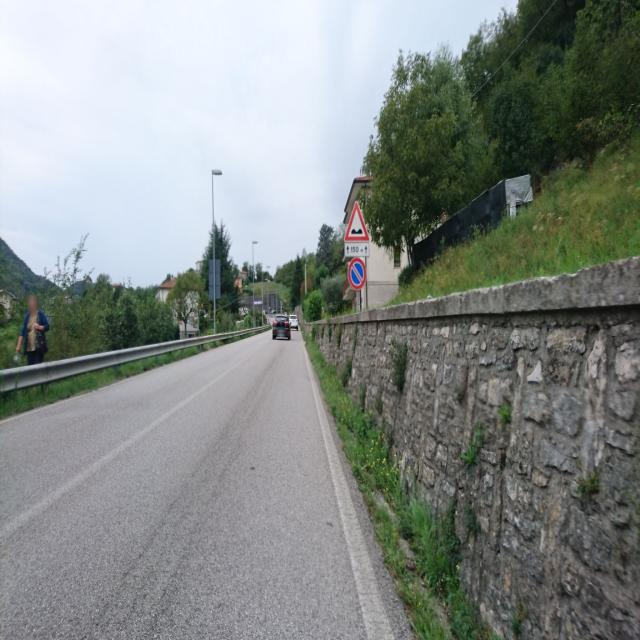forb_stopping: (348, 257, 366, 289)
